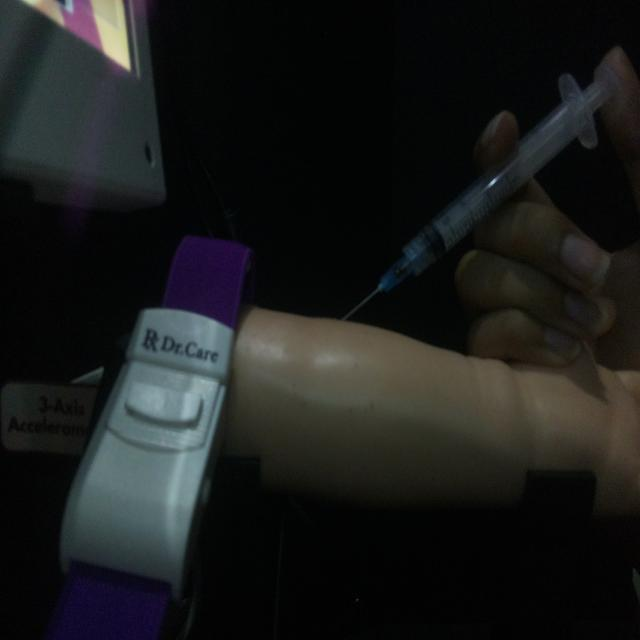30 degrees: (338, 61, 624, 325)
